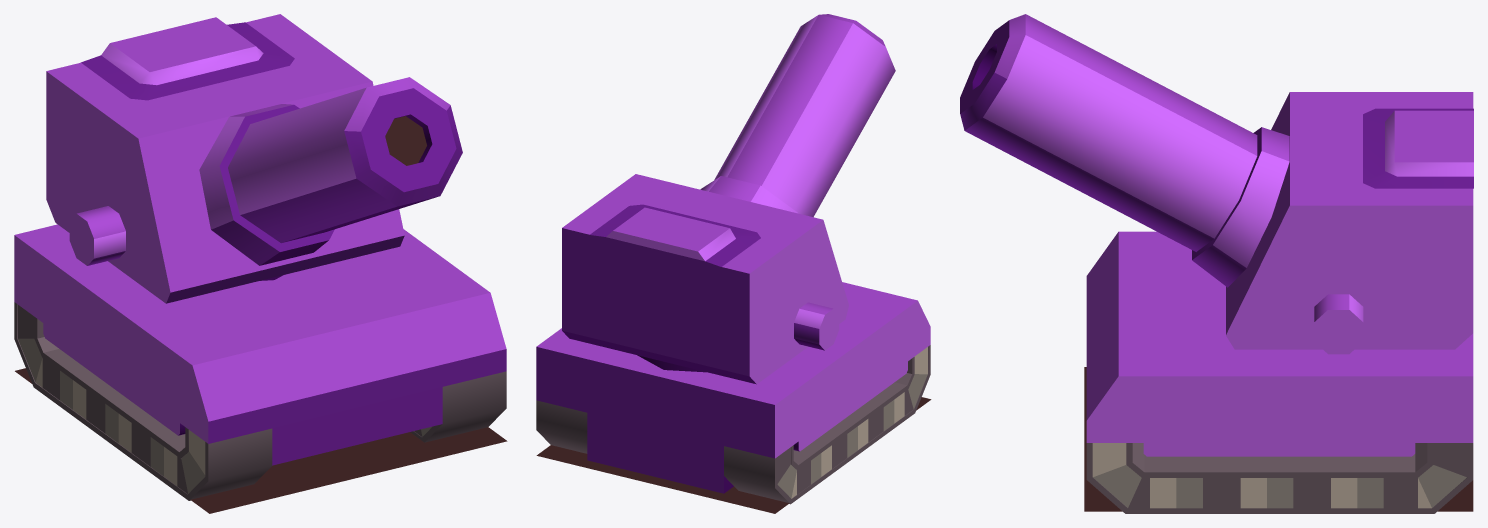
The model's file is ArtillertyMesh.PurpleLightning.glb.
The picture shows the model from 3 angles, left to right: view 1: azimuth 30°, elevation 25°; view 2: azimuth 150°, elevation 25°; view 3: azimuth 270°, elevation 25°; orthographic projection. The views are drawn at different scales.
Parts seen in each view (by area): view 1: ArtillertyMesh.PurpleLightning; view 2: ArtillertyMesh.PurpleLightning; view 3: ArtillertyMesh.PurpleLightning.
Part boxes in pixels (left/top/right/bottom): ArtillertyMesh.PurpleLightning: left=14, top=14, right=507, bottom=513; ArtillertyMesh.PurpleLightning: left=536, top=14, right=931, bottom=513; ArtillertyMesh.PurpleLightning: left=960, top=14, right=1473, bottom=513.
Size of the model in its own units: 1.4 by 1.88 by 2.1.
Materials: 1 (1 with a texture image).
